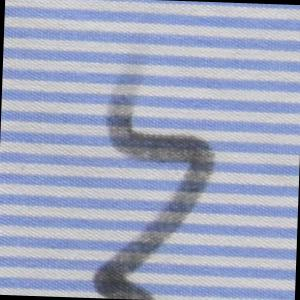Stain: (88, 47, 224, 300)
